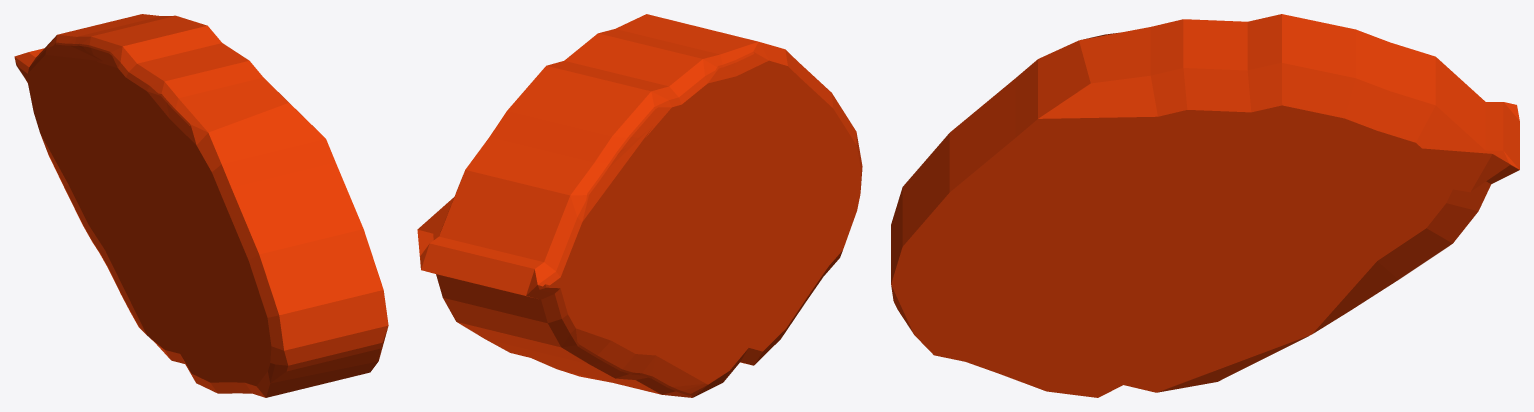
The model's file is beetrot.fbx.
The picture shows the model from 3 angles, left to right: view 1: azimuth 30°, elevation 25°; view 2: azimuth 150°, elevation 25°; view 3: azimuth 270°, elevation 25°; orthographic projection. The views are drawn at different scales.
Parts seen in each view (by area): view 1: Plane; view 2: Plane; view 3: Plane.
Boxes of the visible parts, left/top/right/bottom form: Plane: left=14, top=14, right=388, bottom=397; Plane: left=417, top=14, right=862, bottom=397; Plane: left=891, top=14, right=1519, bottom=397.
Size of the model in its own units: 47.86 by 115 by 201.
